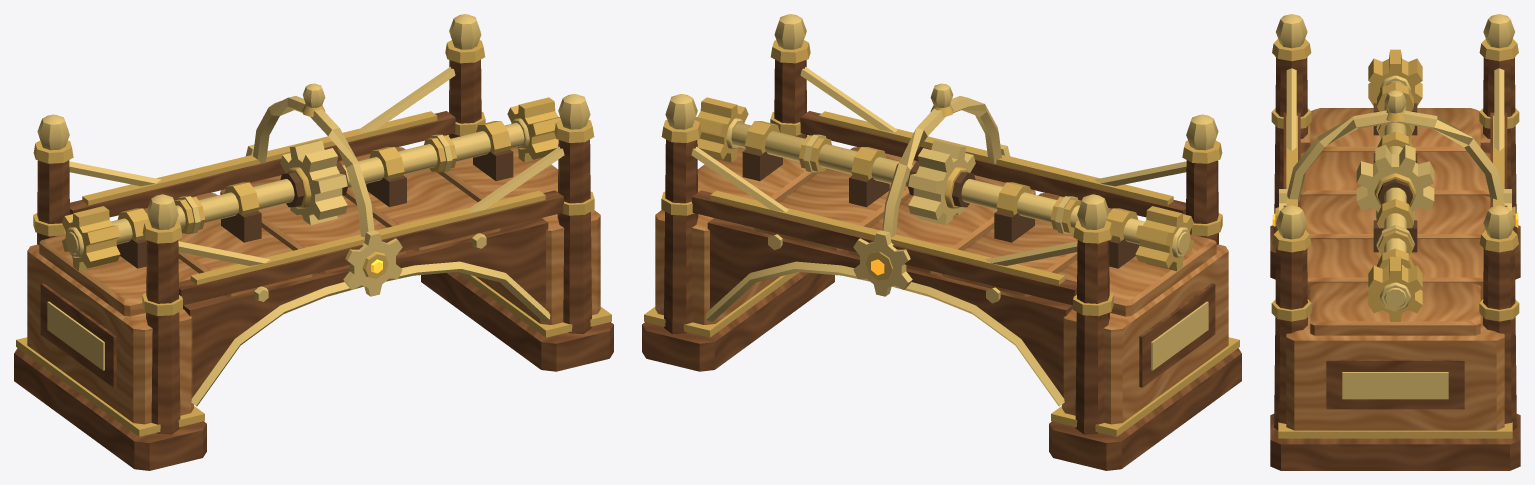
Rendered from pont.glb.
3 views of the same model, side by side, from view 1: azimuth 30°, elevation 25°; view 2: azimuth 150°, elevation 25°; view 3: azimuth 270°, elevation 25° (orthographic). The views are drawn at different scales.
Visible parts, largest first — view 1: Pont_Structure, Arbre_Engrenage; view 2: Pont_Structure, Arbre_Engrenage; view 3: Pont_Structure, Arbre_Engrenage.
Part boxes in pixels (bbox=[...]): Pont_Structure: bbox=[14, 14, 613, 470]; Arbre_Engrenage: bbox=[62, 97, 560, 271]; Pont_Structure: bbox=[642, 14, 1241, 470]; Arbre_Engrenage: bbox=[695, 97, 1193, 271]; Pont_Structure: bbox=[1270, 14, 1520, 470]; Arbre_Engrenage: bbox=[1356, 49, 1434, 321].
Bounding box in the file's own units: 2 × 1.12 × 0.94.
Materials: 6 (2 with a texture image).
